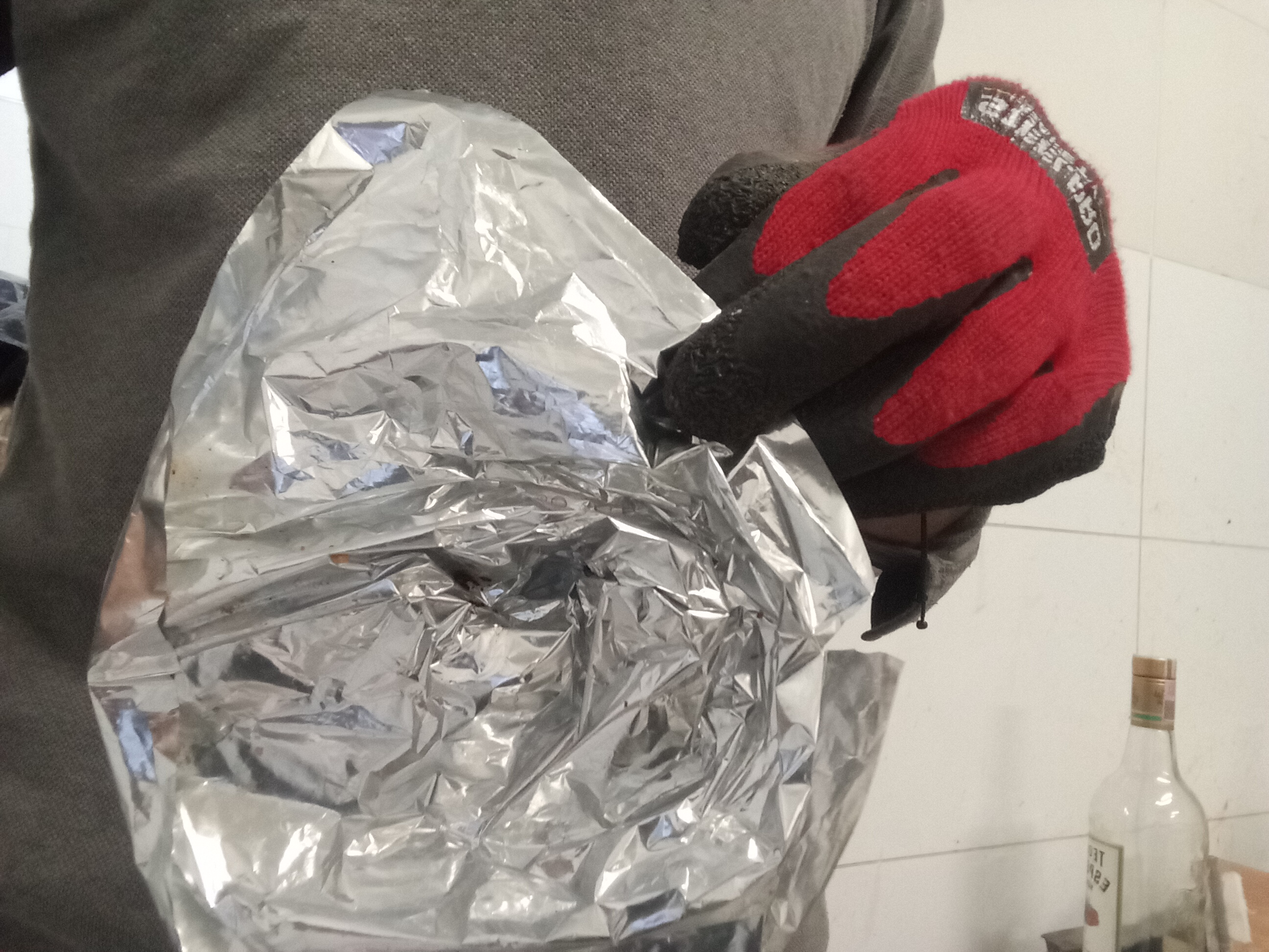Ordinario: (85, 85, 907, 952)
